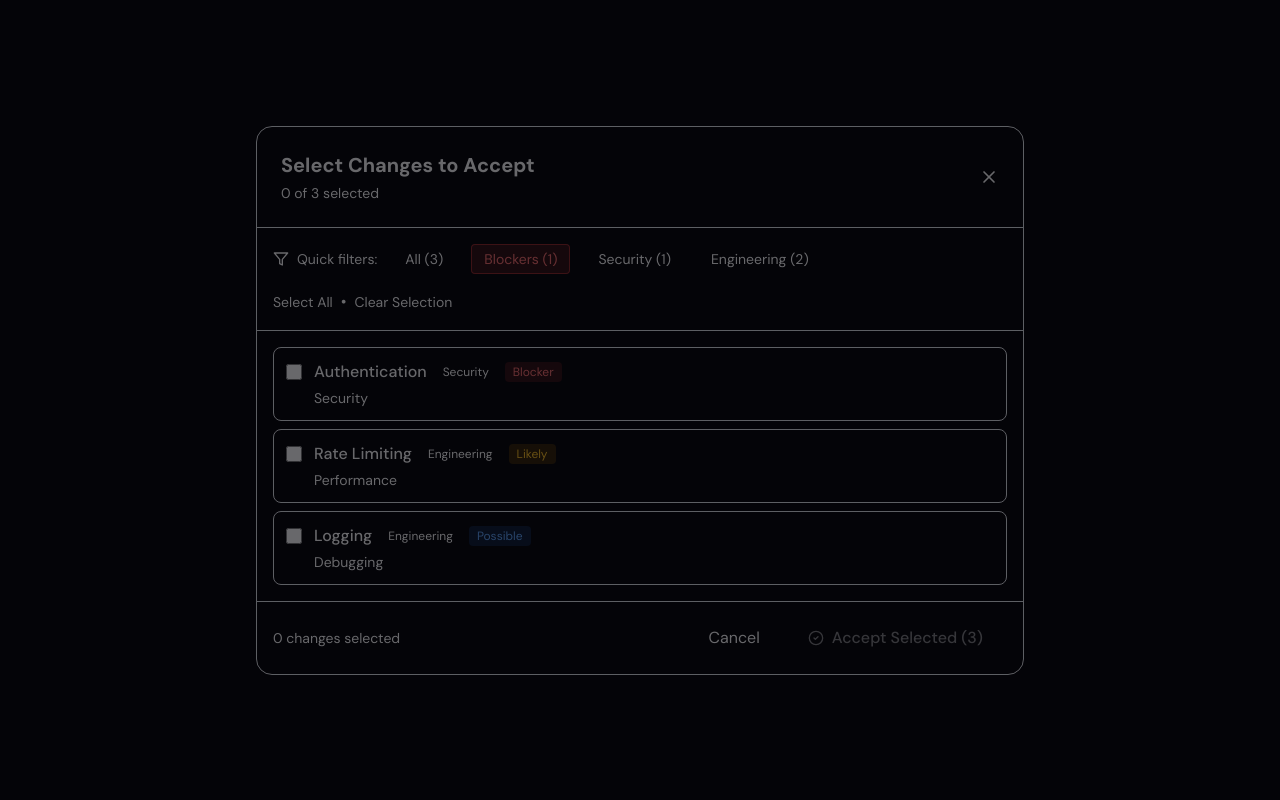
Test: BulkAcceptPanel › filters by blockers when blockers button clicked
Step 1. Click the button "Blockers (1)" → (521, 258), box x1=471 y1=244 x2=570 y2=274
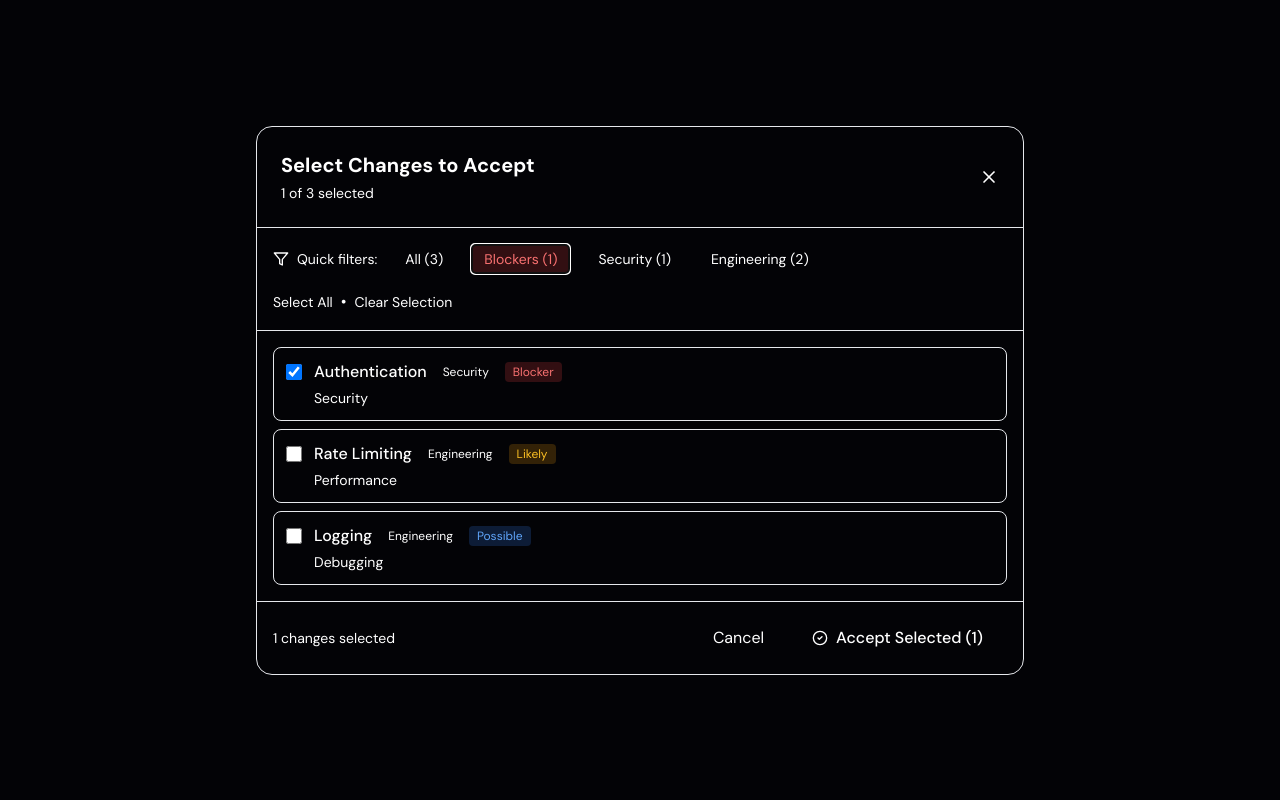
Result: the text "1 of 3 selected" is shown at x1=281 y1=184 x2=374 y2=202
